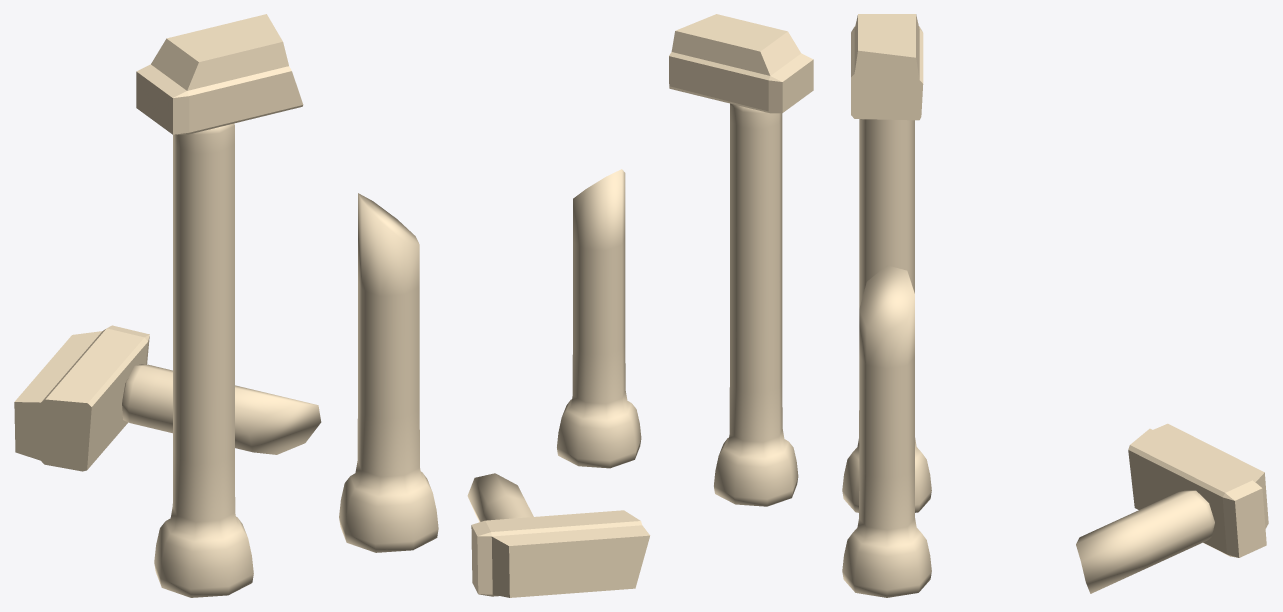
The model's file is columnN05.fbx.
3 views of the same model, side by side, from view 1: azimuth 30°, elevation 25°; view 2: azimuth 150°, elevation 25°; view 3: azimuth 270°, elevation 25° (orthographic). The views are drawn at different scales.
Visible parts, largest first — view 1: columnN05, columnN05b; view 2: columnN05, columnN05b; view 3: columnN05, columnN05b.
Part boxes in pixels (x1,y1,x2,y2): columnN05: (136, 14, 438, 597); columnN05b: (14, 325, 321, 471); columnN05: (557, 14, 813, 506); columnN05b: (467, 473, 650, 597); columnN05: (842, 14, 931, 597); columnN05b: (1076, 423, 1268, 593).
Bounding box in the file's own units: 794 × 1473 × 1180.
